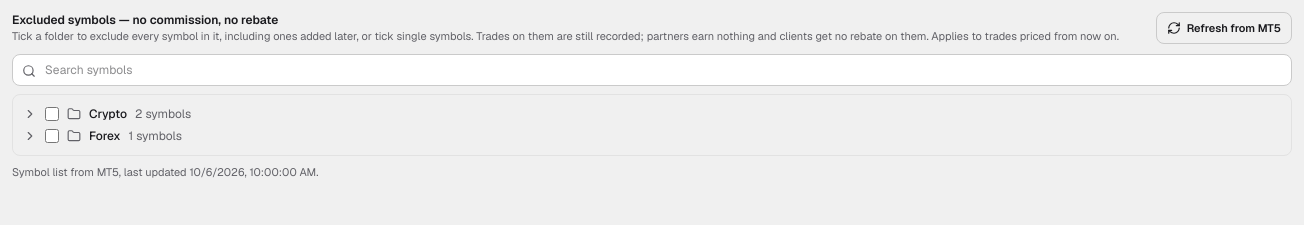
Test case: SymbolExclusionPicker › ticking a folder excludes it whole
This screenshot has width=1304, height=225.
expect the text "Crypto" is shown: met, box [89, 106, 127, 122]
Click the checkbox labelled "Crypto 2 symbols". click: (52, 114)
box: [45, 107, 59, 121]
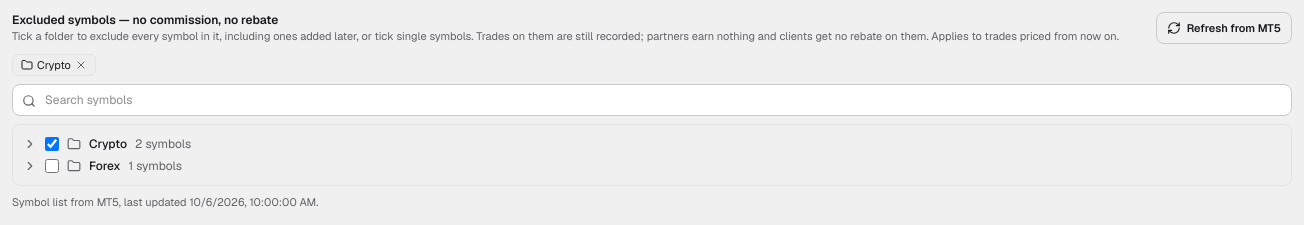
expect the button named "stop excluding crypto" is shown: met, box [75, 59, 87, 71]
